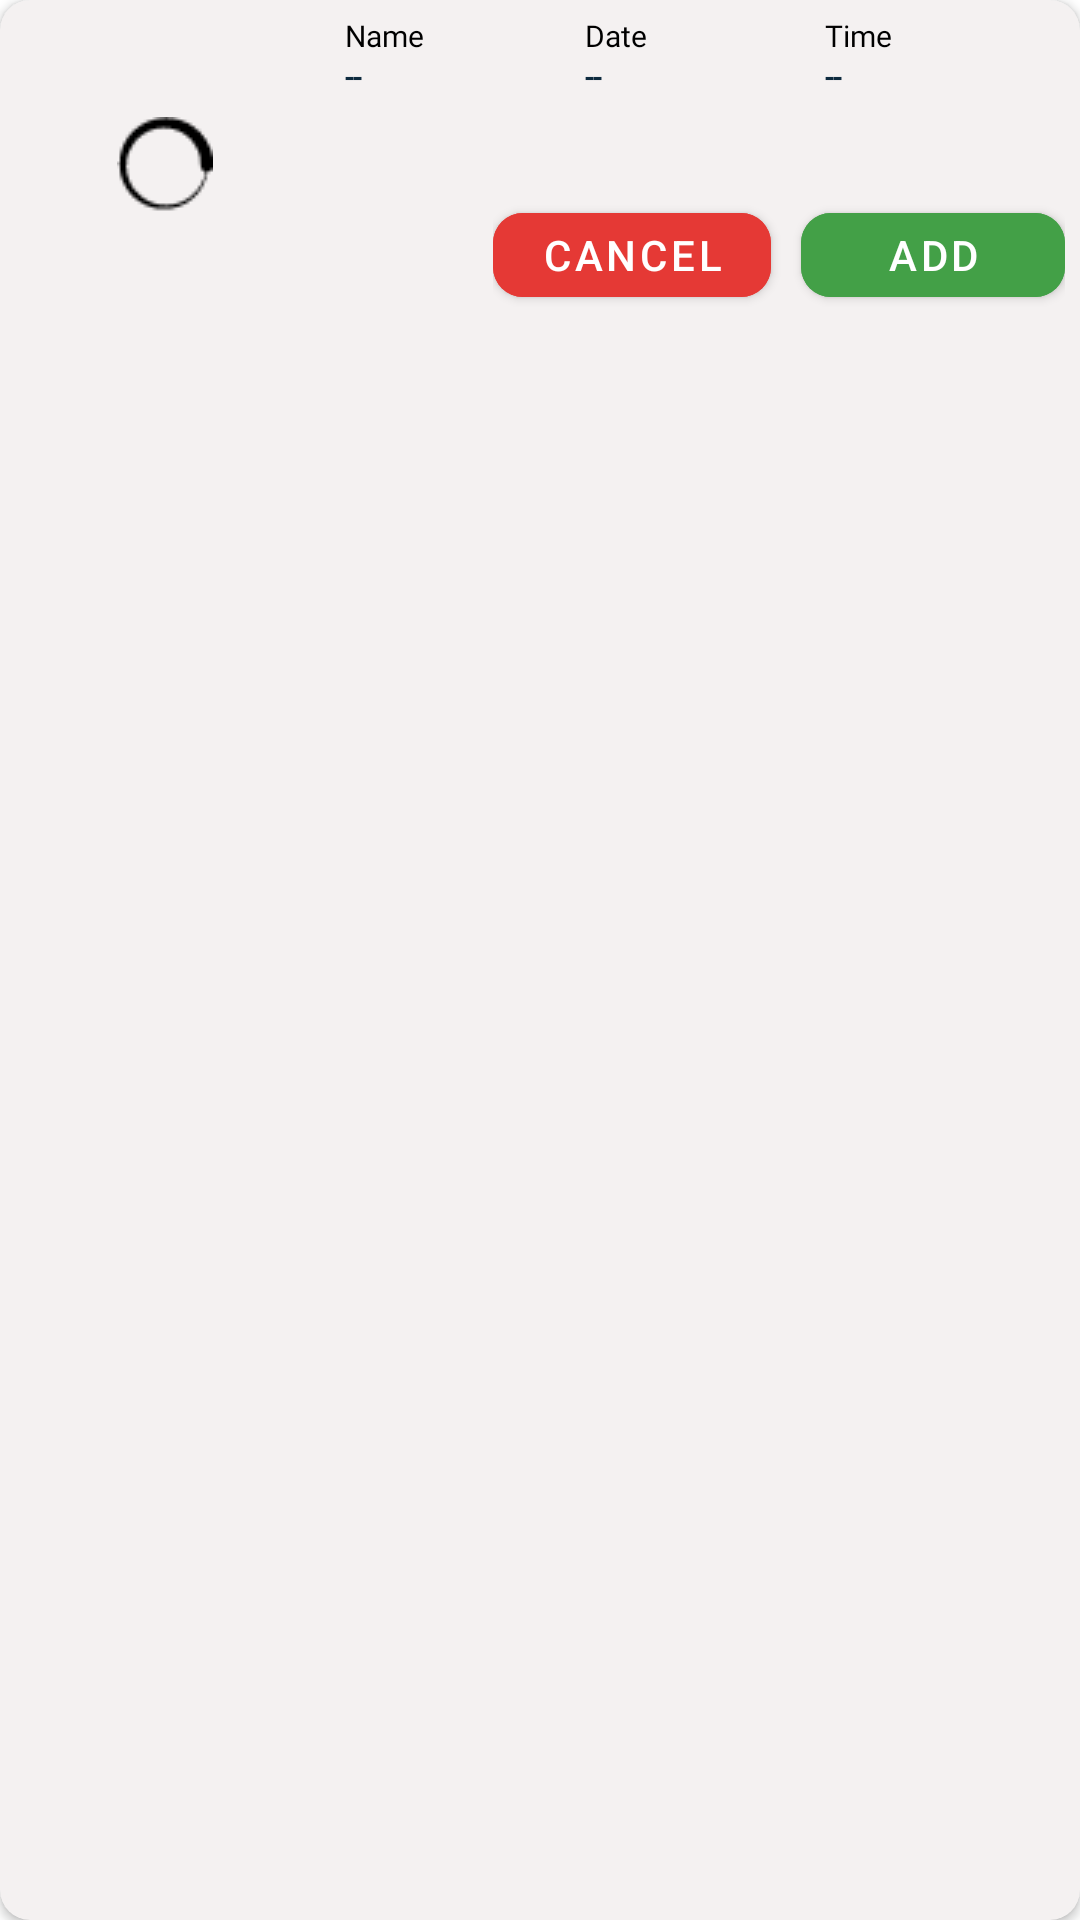

Icons on this 1080px x 1920px Android screen, each with the point to tap as (x,y):
loading: (165,164)
